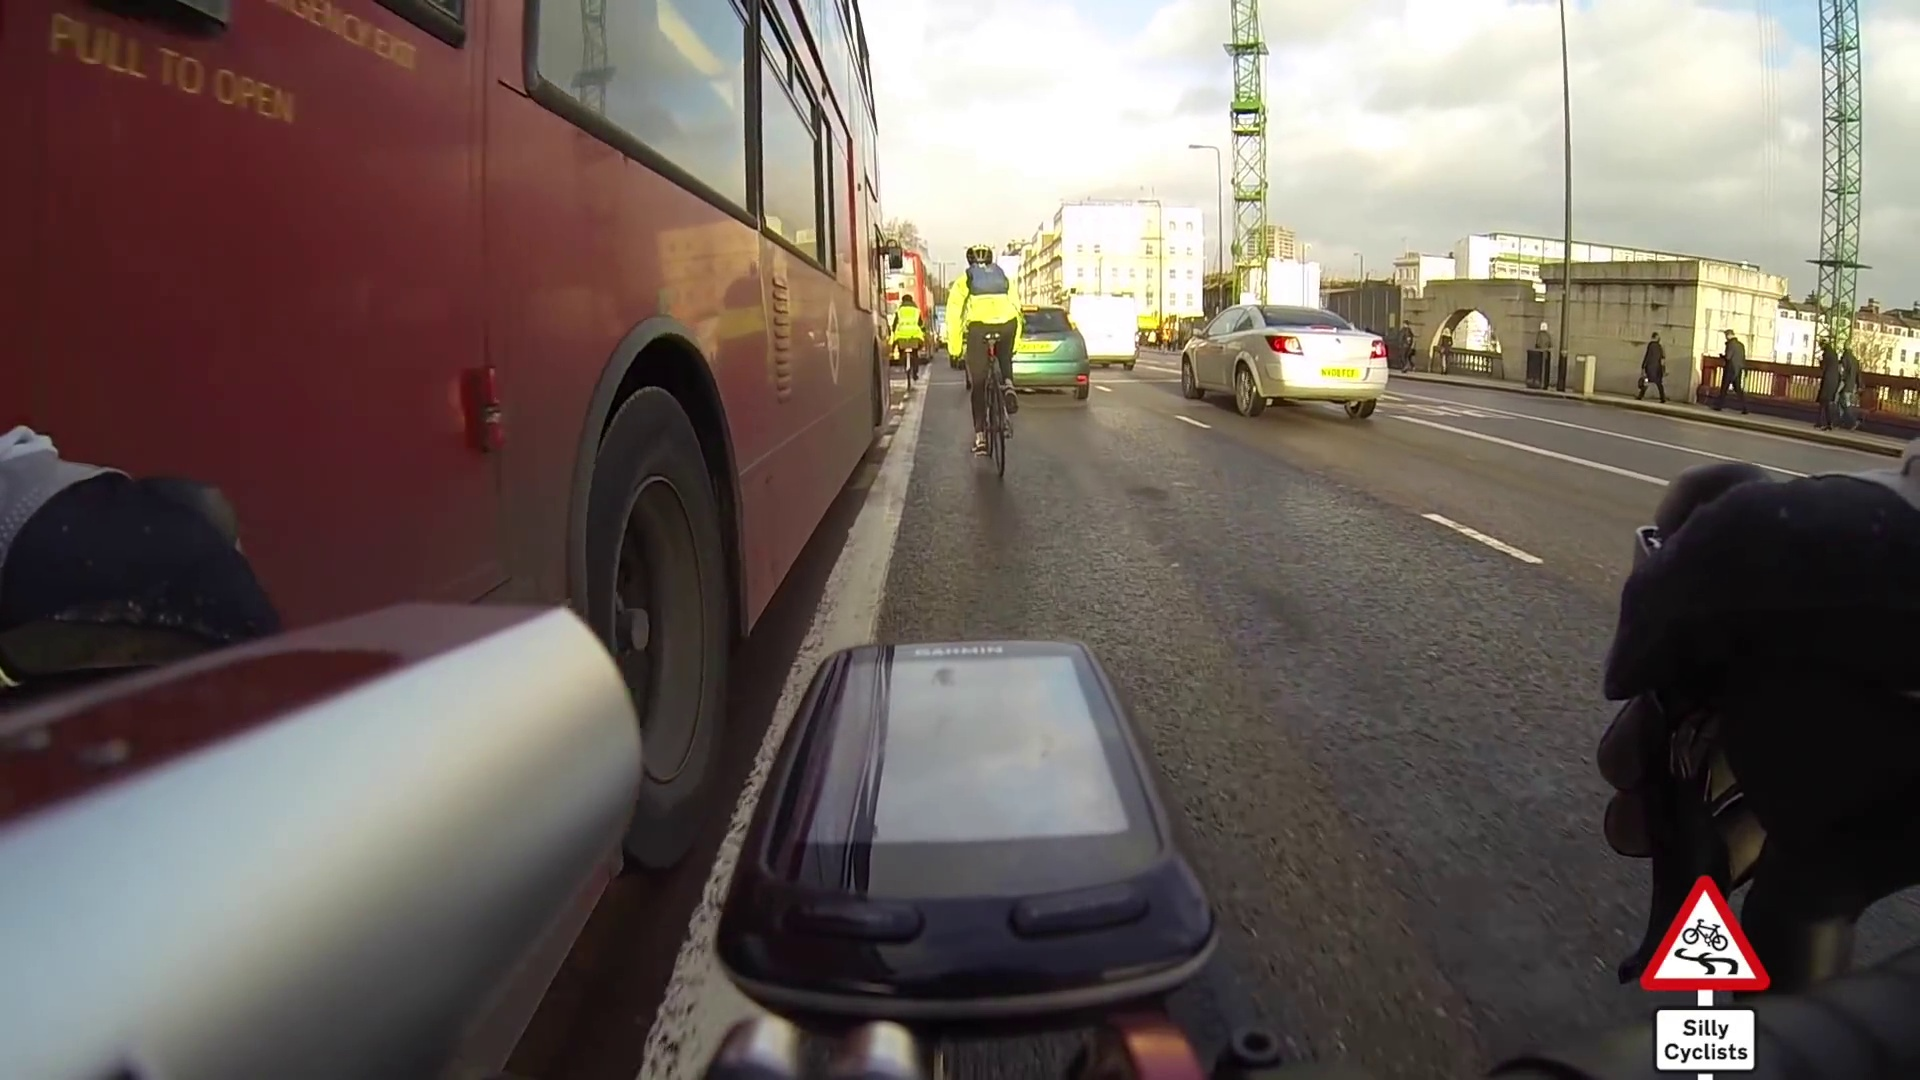cyclist_back: (944, 235, 1027, 490), (884, 284, 928, 396)
